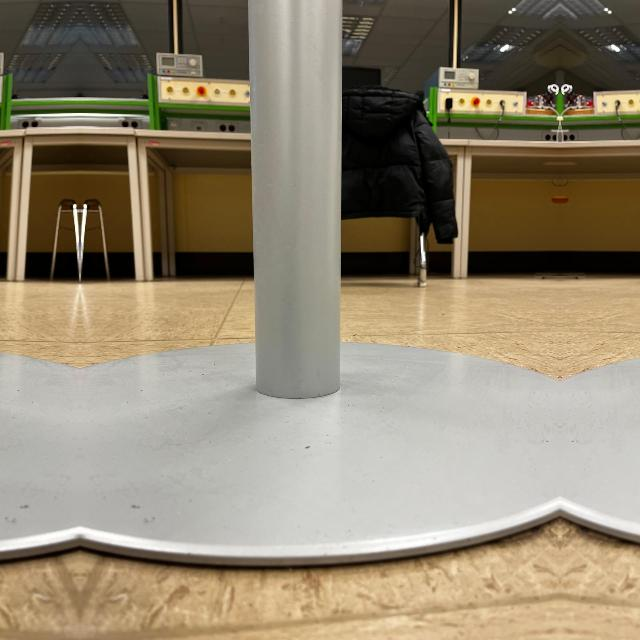obstacle: (80, 103, 560, 561), (0, 103, 80, 561), (560, 103, 640, 561)
